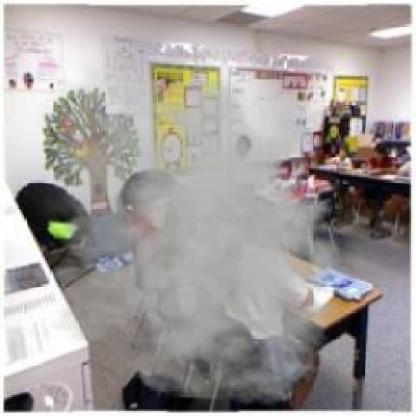Smoke: (7, 43, 366, 406)
